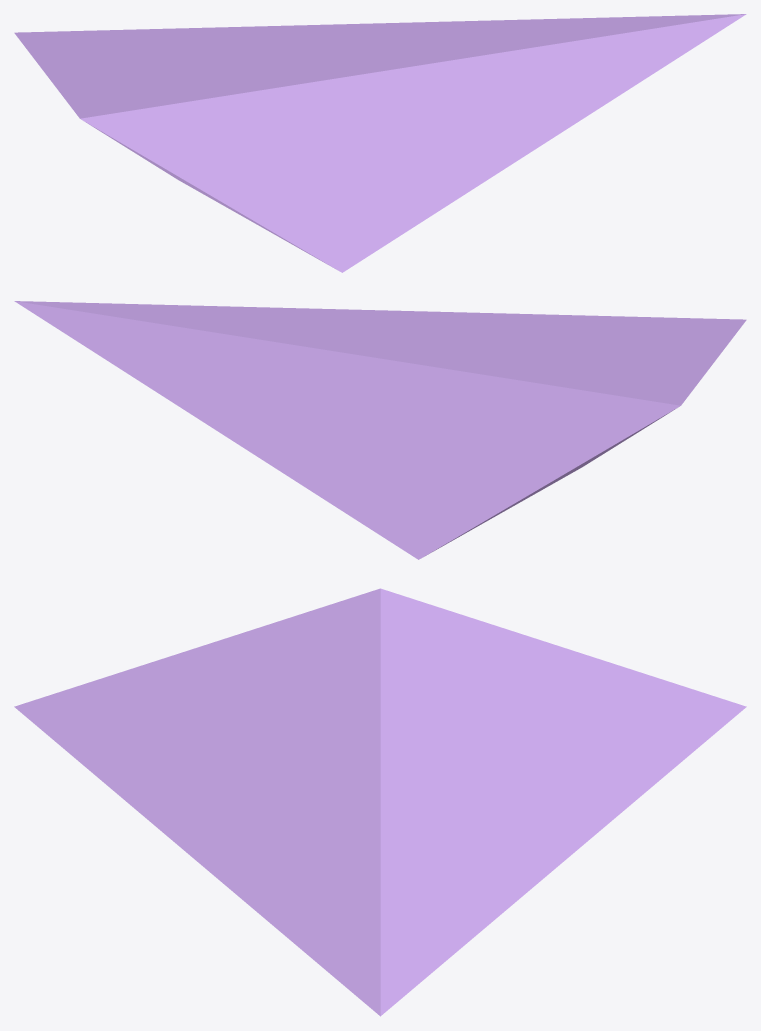
File: nave voyage.fbx
3 renders of one model, top to bottom at view 1: azimuth 30°, elevation 25°; view 2: azimuth 150°, elevation 25°; view 3: azimuth 270°, elevation 25°, orthographic. The views are drawn at different scales.
Visible parts, largest first — view 1: Nave; view 2: Nave; view 3: Nave.
Part boxes in pixels (<box>): Nave: <box>14,14,746,272</box>; Nave: <box>14,301,746,559</box>; Nave: <box>14,588,746,1016</box>.
Size of the model in its own units: 235 by 28.65 by 200.
